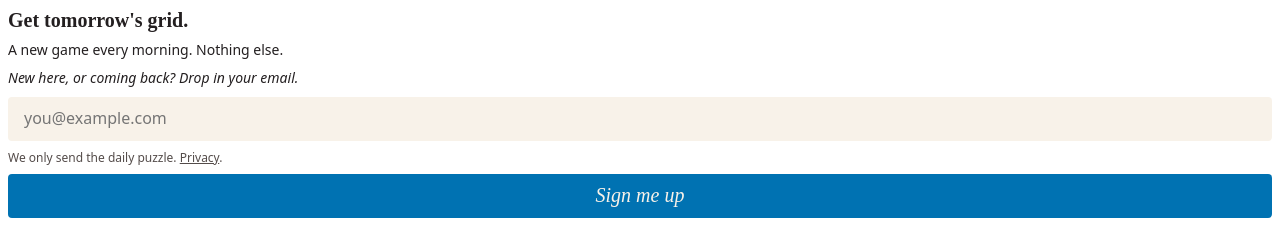
Test: the form doubles as a restore path › keeps the new-signup message when the address is genuinely new
The image size is (1280, 235).
Step 1. Type "brand-new@example.com" into the field named "Email address" → [640, 119], box top-left (8, 97), bottom-right (1272, 141)
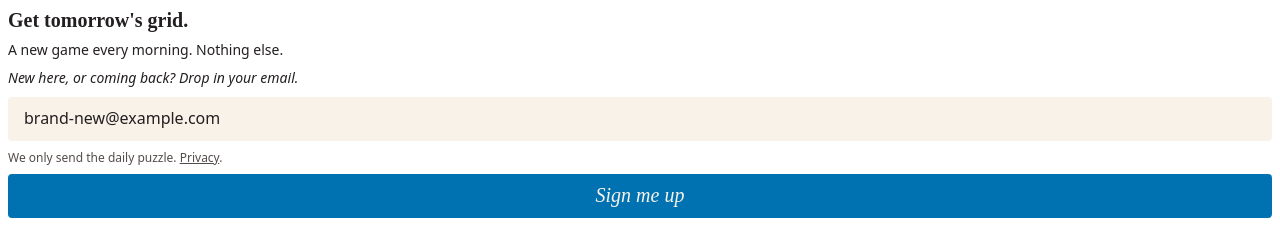
Step 2. Click the button "Sign me up" → [640, 196], box top-left (8, 174), bottom-right (1272, 218)
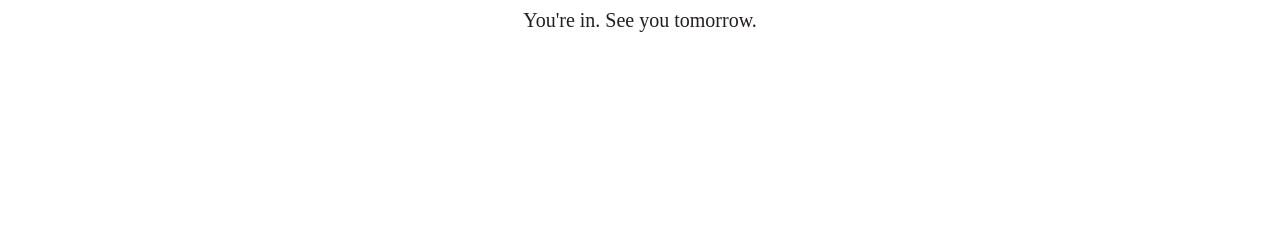
Expected: the text "You're in. See you tomorrow." is shown, top-left (523, 9), bottom-right (757, 31)
